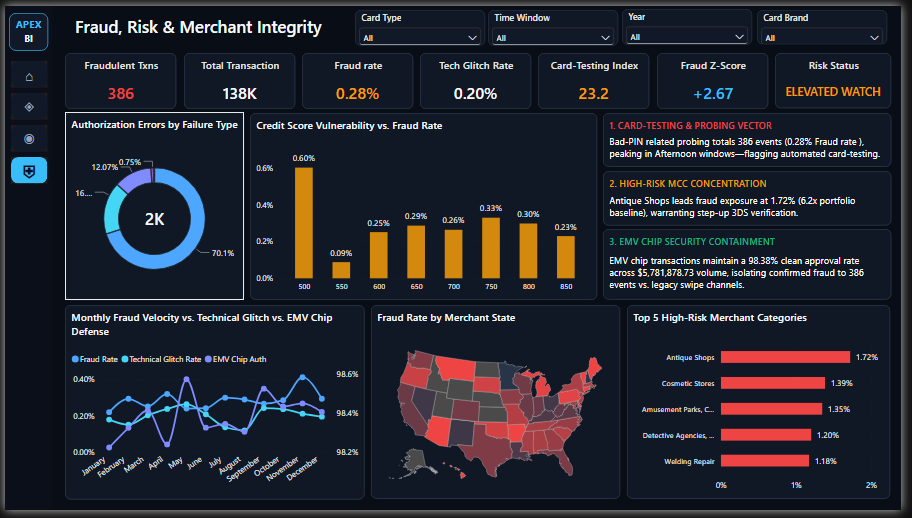

Layout of this report page (visuals, bound fields, positions):
{"tool":"powerbi","page":{"name":"Fraud & Risk","canvas":[1280,720],"ordinal":3},"visuals":[{"type":"textbox","box":[0,0,68,720],"z":0},{"type":"textbox","box":[6,10,56,54],"z":1000},{"type":"actionButton","box":[8,78,52,38],"z":2000},{"type":"actionButton","box":[8,124,52,38],"z":3000},{"type":"actionButton","box":[8,170,52,38],"z":4000},{"type":"actionButton","box":[8,216,52,38],"z":5000},{"type":"textbox","box":[99.7,13.3,388.1,34.6],"z":6000},{"type":"card","title":"Fraudulent Txns","fields":{"Values":["transactions_data.Fraudulent Transactions"]},"box":[86,66.6,159,80],"z":7000},{"type":"card","title":"Total Transaction","fields":{"Values":["transactions_data.Total Transactions"]},"box":[255,66.6,159,80],"z":8000},{"type":"card","title":"Fraud rate ","fields":{"Values":["transactions_data.Fraud Rate"]},"box":[424,66.6,159,80],"z":9000},{"type":"card","title":"Tech Glitch Rate","fields":{"Values":["transactions_data.Technical Glitch Rate"]},"box":[593,66.6,159,80],"z":10000},{"type":"card","title":"Card-Testing Index","fields":{"Values":["transactions_data.Card-Testing Index"]},"box":[762,66.6,159,80],"z":11000},{"type":"card","title":"Fraud Z-Score","fields":{"Values":["transactions_data.Peak Monthly Fraud Z-Score"]},"box":[931,66.6,159,80],"z":12000},{"type":"card","title":"Risk Status","fields":{"Values":["transactions_data.Risk Status"]},"box":[1100.7,67.1,165.8,79.4],"z":13000},{"type":"donutChart","title":"Authorization Errors by Failure Type","fields":{"Category":["transactions_data.errors"],"Y":["transactions_data.Total Transactions"]},"box":[86.4,151.5,248.6,268.5],"z":14000},{"type":"slicer","fields":{"Values":["transactions_data.Time of Day"]},"box":[690.2,5.3,186.1,50.5],"z":15000},{"type":"slicer","fields":{"Values":["cards_data.card_brand"]},"box":[1073.8,5.3,186.3,49.2],"z":16000},{"type":"slicer","fields":{"Values":["Calendar.Year"]},"box":[881.6,4,186.1,50.5],"z":17000},{"type":"shape","title":"1. CARD-TESTING & PROBING VECTOR","box":[854.6,153.1,412.4,76.5],"z":18000},{"type":"shape","title":"2. HIGH-RISK MCC CONCENTRATION","box":[854.6,235.3,412.4,78],"z":19000},{"type":"shape","title":"3. EMV CHIP SECURITY CONTAINMENT","box":[854.6,318.9,412.4,100.6],"z":20000},{"type":"slicer","fields":{"Values":["cards_data.card_type"]},"box":[499.8,5.3,186.1,50.5],"z":21000},{"type":"clusteredColumnChart","title":"Credit Score Vulnerability vs. Fraud Rate","fields":{"Category":["users_data.credit_score (bins)"],"Y":["transactions_data.Fraud Rate"]},"box":[348.2,152.9,495.8,267.2],"z":22000},{"type":"lineChart","title":"Monthly Fraud Velocity vs. Technical Glitch vs. EMV Chip Defense","fields":{"Category":["Calendar.Month Name"],"Y":["transactions_data.Fraud Rate","transactions_data.Technical Glitch Rate"],"Y2":["transactions_data.EMV Chip Auth"]},"box":[86.4,429.3,428,277.8],"z":23000},{"type":"clusteredBarChart","title":"Top 5 High-Risk Merchant Categories","fields":{"Category":["mcc_codes.Description"],"Y":["transactions_data.Fraud Rate"]},"box":[894.5,429.3,372.2,277.8],"z":24000},{"type":"shapeMap","title":"Fraud Rate by Merchant State ","fields":{"Category":["transactions_data.merchant_state"],"Value":["transactions_data.Fraud Rate"]},"box":[526.4,429.3,354.9,277.8],"z":25000}]}

Visuals, with their boxes in screenshot pixels (x1, y1, x2, y2), scaled from the page's 1280x720 canvas onto the 912x518 screenshot:
textbox: 0 0 48 517
textbox: 4 7 44 46
actionButton: 6 56 43 83
actionButton: 6 89 43 117
actionButton: 6 122 43 150
actionButton: 6 155 43 183
textbox: 71 10 348 34
"Fraudulent Txns" card: 61 48 175 105
"Total Transaction" card: 182 48 295 105
"Fraud rate " card: 302 48 415 105
"Tech Glitch Rate" card: 423 48 536 105
"Card-Testing Index" card: 543 48 656 105
"Fraud Z-Score" card: 663 48 777 105
"Risk Status" card: 784 48 902 105
"Authorization Errors by Failure Type" donutChart: 62 109 239 302
slicer - transactions_data.Time of Day: 492 4 624 40
slicer - cards_data.card_brand: 765 4 898 39
slicer - Calendar.Year: 628 3 761 39
"1. CARD-TESTING & PROBING VECTOR" shape: 609 110 903 165
"2. HIGH-RISK MCC CONCENTRATION" shape: 609 169 903 225
"3. EMV CHIP SECURITY CONTAINMENT" shape: 609 229 903 302
slicer - cards_data.card_type: 356 4 489 40
"Credit Score Vulnerability vs. Fraud Rate" clusteredColumnChart: 248 110 601 302
"Monthly Fraud Velocity vs. Technical Glitch vs. EMV Chip Defense" lineChart: 62 309 367 509
"Top 5 High-Risk Merchant Categories" clusteredBarChart: 637 309 903 509
"Fraud Rate by Merchant State " shapeMap: 375 309 628 509
